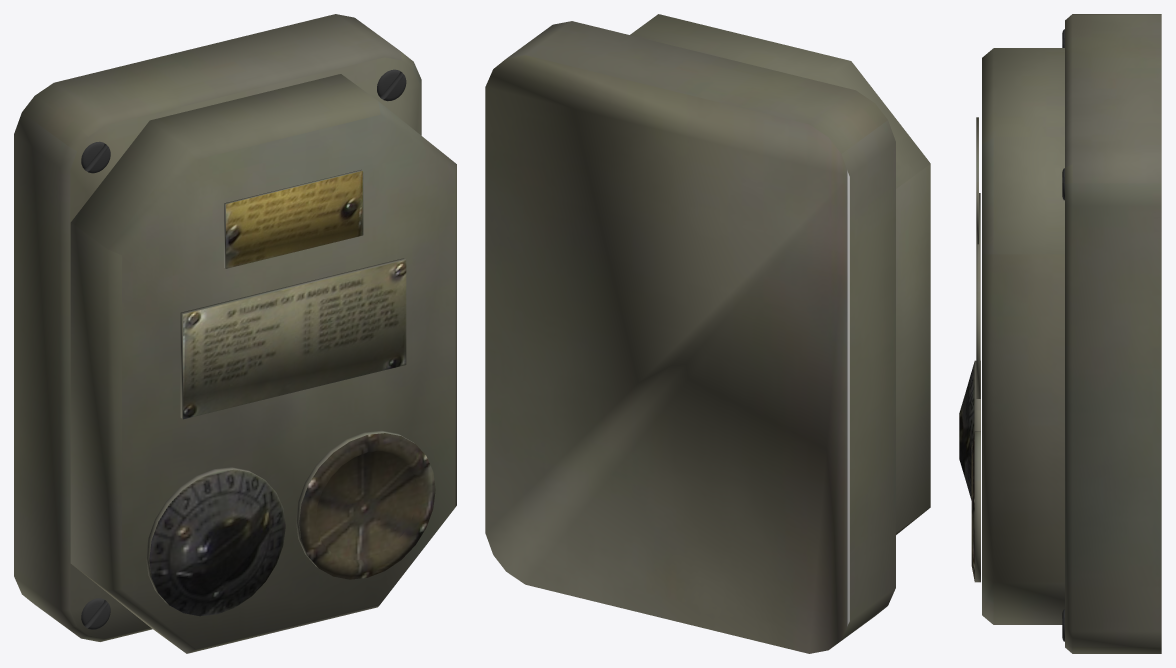
Rendered from Growler.obj.
3 views of the same model, side by side, from view 1: azimuth 30°, elevation 25°; view 2: azimuth 150°, elevation 25°; view 3: azimuth 270°, elevation 25° (orthographic). The views are drawn at different scales.
Parts seen in each view (by area): view 1: Default, Sink; view 2: Default; view 3: Default.
Boxes of the visible parts, x1,y1,x2,y2 form: Default: (14, 14, 456, 653); Sink: (81, 69, 406, 629); Default: (485, 14, 930, 653); Default: (959, 14, 1161, 653).
Size of the model in its own units: 2.6 by 3.61 by 1.31.
